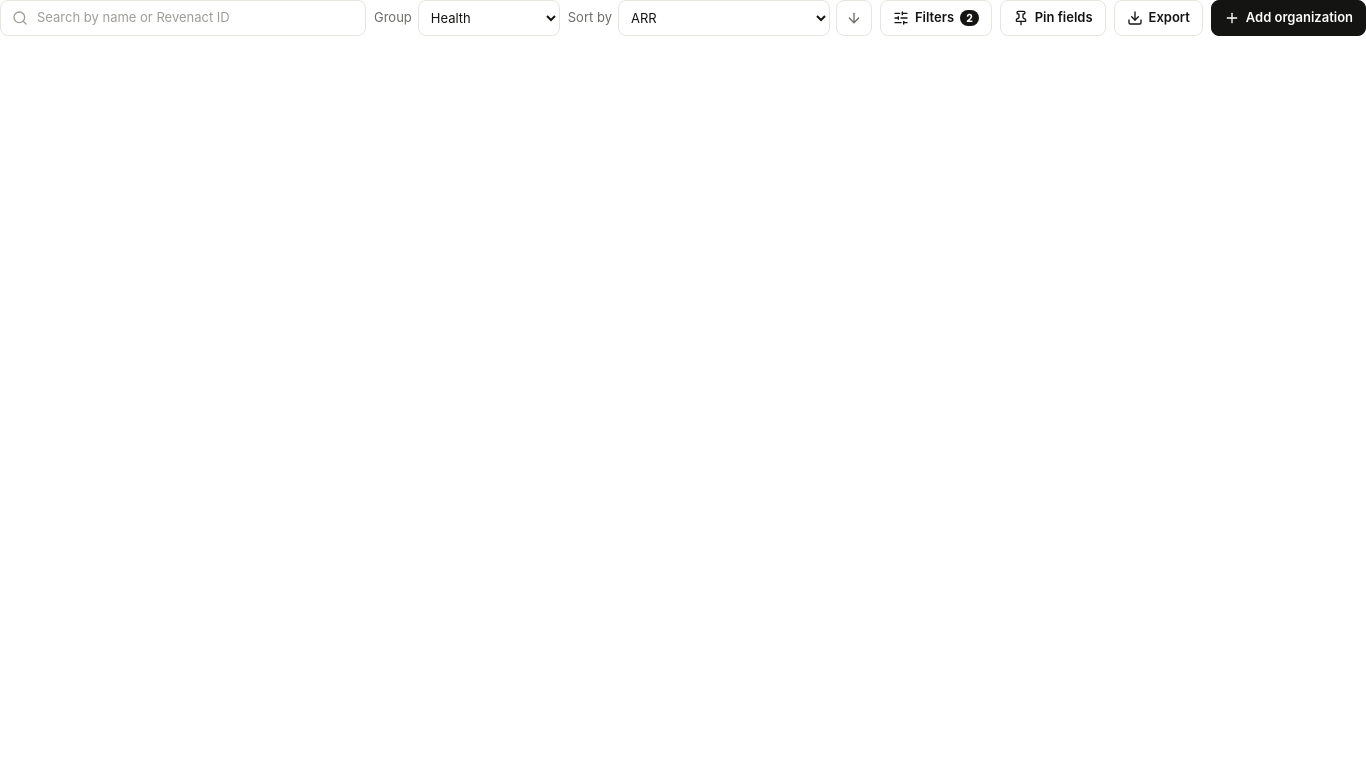
Scenario: PortfolioToolbar › counts active filters on the Filters button and opens the panel
Click the button "Filters 2". click: [936, 18]
box: [880, 0, 992, 36]
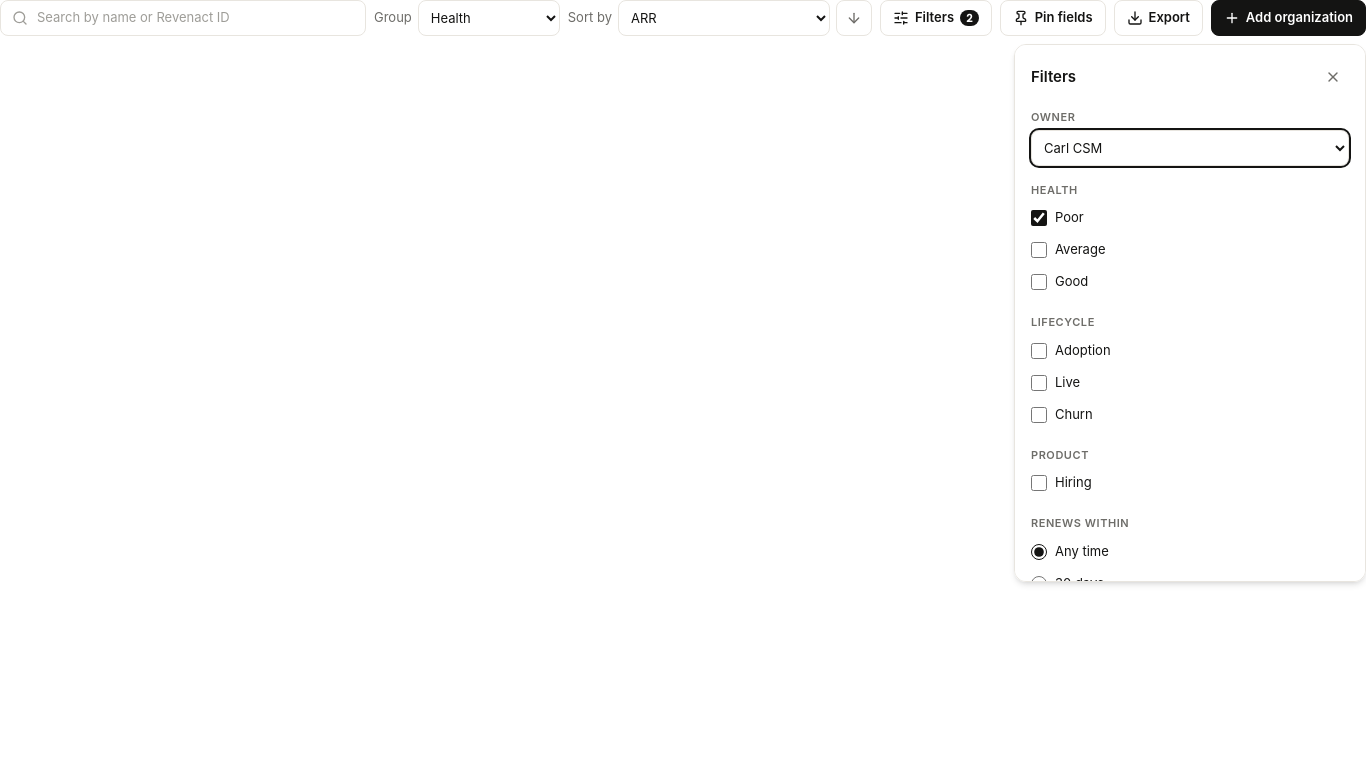
Now the dialog "Filters" is shown, box [1014, 44, 1365, 582]
